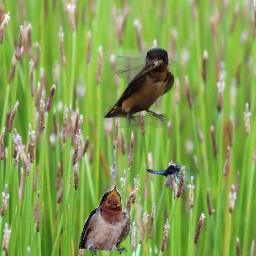Swallow: (103, 47, 174, 128), (79, 186, 131, 255)
